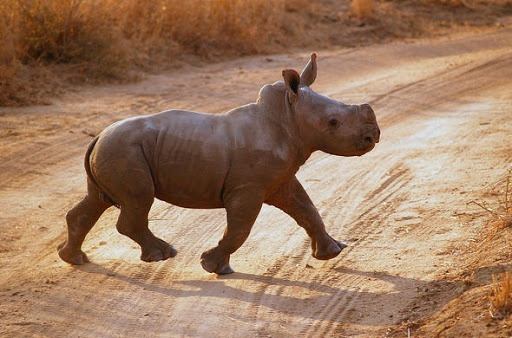rhino: (56, 56, 378, 277)
